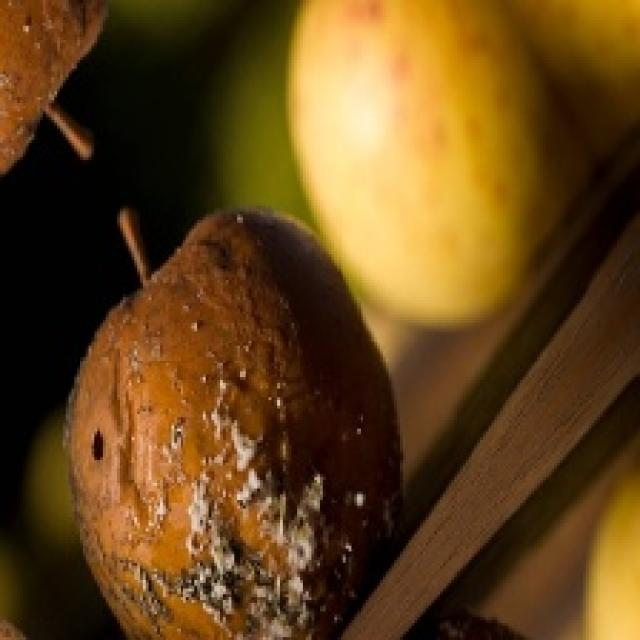rotten_apple: (78, 210, 396, 628)
